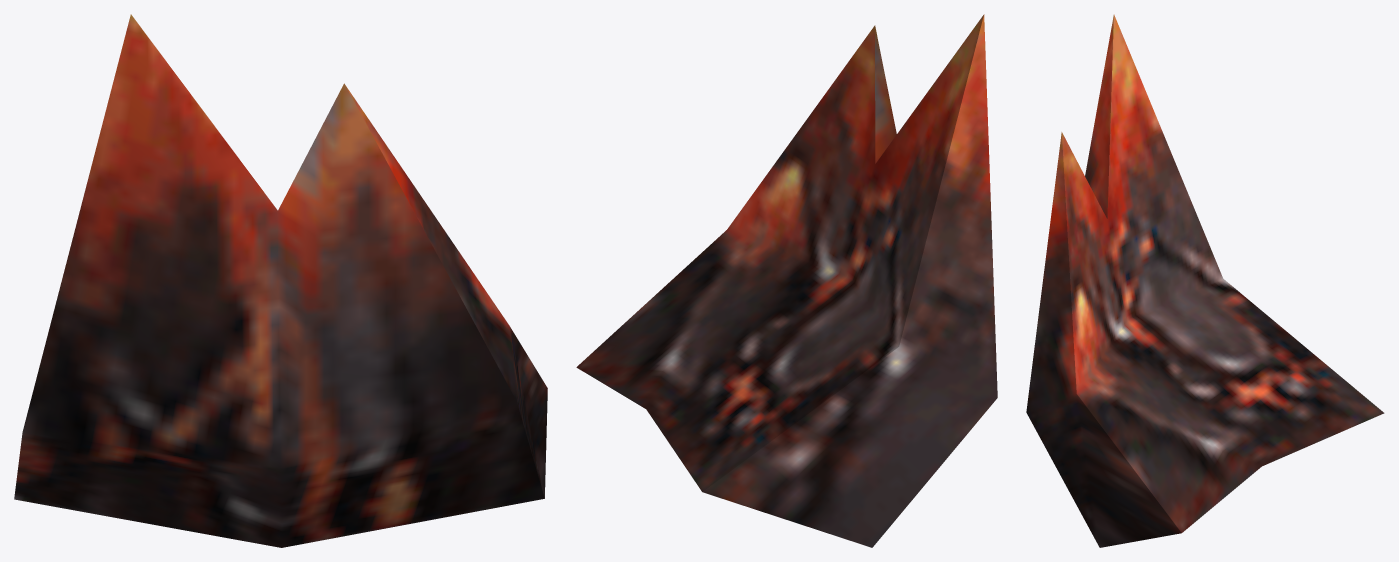
Rendered from hs_jianci_3.FBX.
3 views of the same model, side by side, from view 1: azimuth 30°, elevation 25°; view 2: azimuth 150°, elevation 25°; view 3: azimuth 270°, elevation 25° (orthographic). The views are drawn at different scales.
Parts seen in each view (by area): view 1: hs_jianci_3; view 2: hs_jianci_3; view 3: hs_jianci_3.
Part boxes in pixels (bbox=[...]): hs_jianci_3: bbox=[14, 14, 547, 547]; hs_jianci_3: bbox=[576, 14, 997, 547]; hs_jianci_3: bbox=[1026, 14, 1384, 547].
Size of the model in its own units: 1.84 by 1.94 by 1.57.
